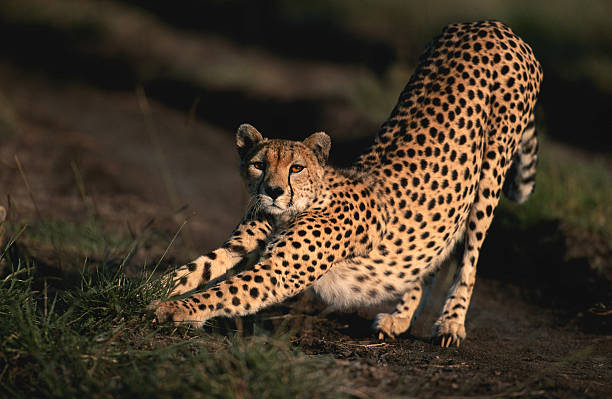cheetah: (217, 116, 346, 234)
